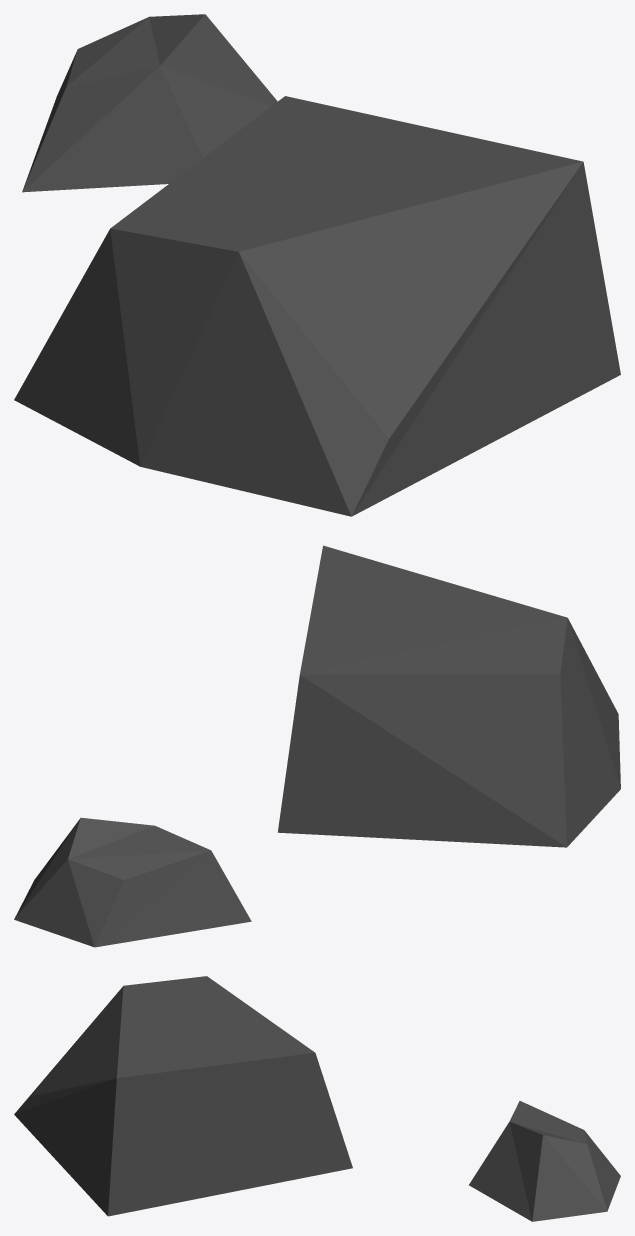
File: Brick_A_03.FBX
3 views of the same model, one above another, from view 1: azimuth 30°, elevation 25°; view 2: azimuth 150°, elevation 25°; view 3: azimuth 270°, elevation 25° (orthographic). The views are drawn at different scales.
Parts seen in each view (by area): view 1: Brick_A_03; view 2: Brick_A_03; view 3: Brick_A_03.
Part boxes in pixels (x1,y1,x2,y2): Brick_A_03: [14, 14, 620, 516]; Brick_A_03: [14, 545, 620, 947]; Brick_A_03: [14, 976, 620, 1221].
Bounding box in the file's own units: 0.4335 × 0.1784 × 0.7585.
